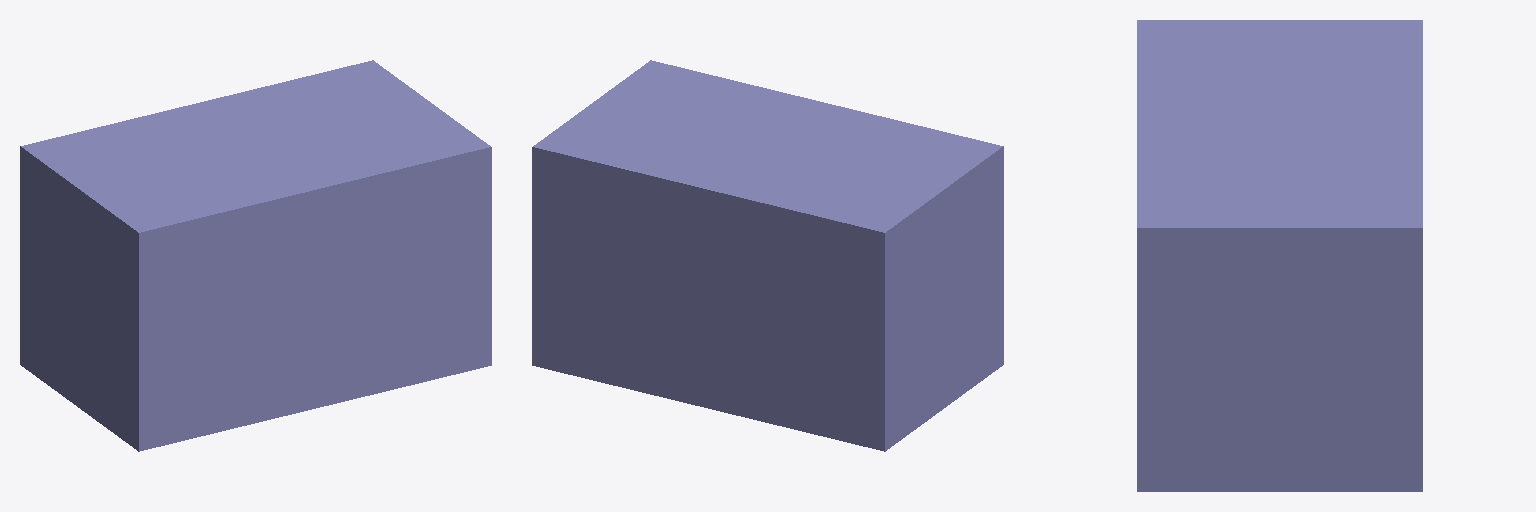
URDF robot description (box.urdf):
<?xml version="1.0" ?>
<robot name="box.urdf">
  <link name="baseLink">
    <contact>
      <lateral_friction value="1.0"/>
      <rolling_friction value="0.0001"/>
      <inertia_scaling value="3.0"/>
    </contact>
    <inertial>
      <origin rpy="0 0 0" xyz="0 0 0"/>
       <mass value="0.1"/>
       <inertia ixx="1" ixy="0" ixz="0" iyy="1" iyz="0" izz="1"/>
    </inertial>
    <visual>
      <origin rpy="0 0 0" xyz="0 0 0"/>
      <geometry>
        <!-- <box size="0.43 0.25 0.255"/> -->
        <mesh filename="box/box.obj" scale="0.43 0.25 0.255"/>
      </geometry>
      <material name="white">
        <color rgba="0.6 0.6 0.8 1"/>
      </material>
    </visual>
    <collision>
      <origin rpy="0 0 0" xyz="0 0 0"/>
      <geometry>
        <mesh filename="box/box.obj" scale="0.43 0.25 0.255"/>
	 	    <!-- <box size="0.43 0.25 0.255"/> -->
      </geometry>
    </collision>
  </link>
</robot>

--- Facts derived from the render (not from the file) ---
The picture shows the robot from 3 angles, left to right: view 1: azimuth 30°, elevation 25°; view 2: azimuth 150°, elevation 25°; view 3: azimuth 270°, elevation 25°; orthographic projection.
Model box.urdf with 1 links and 0 joints (none), rooted at baseLink, posed every joint at zero.
Visible links, largest first — view 1: baseLink; view 2: baseLink; view 3: baseLink.
Link boxes in pixels (x1,y1,x2,y2): baseLink: [20, 60, 491, 451]; baseLink: [532, 60, 1003, 451]; baseLink: [1137, 20, 1422, 491].
Size in the robot's own frame: 0.43 by 0.25 by 0.255 metres.
Meshes: 1 distinct files referenced, 1 mesh visuals loaded (1 OBJ).
